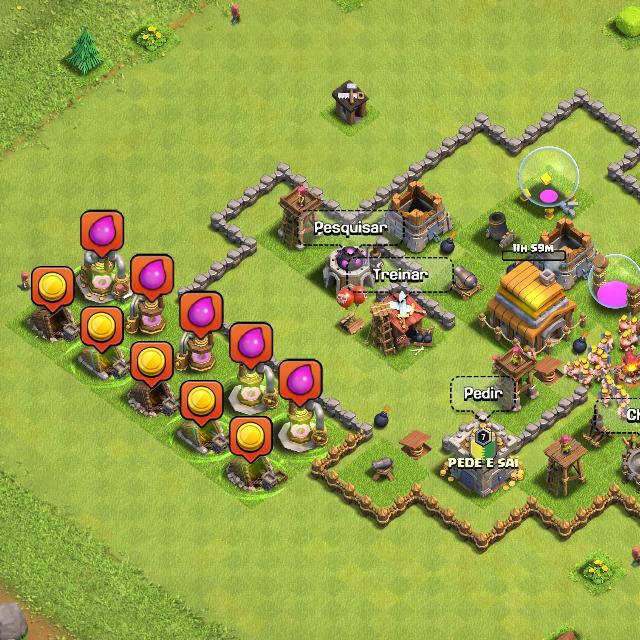Arqueira: (492, 344, 542, 414), (543, 434, 590, 499), (278, 186, 324, 248)
Canhao: (449, 264, 485, 302), (368, 455, 398, 485)
FullCoin: (31, 266, 76, 313), (130, 342, 174, 389), (179, 380, 223, 427), (80, 306, 124, 351), (229, 416, 273, 461)
FullElixir: (278, 359, 323, 408), (230, 322, 274, 369), (80, 210, 124, 256), (129, 254, 175, 298), (180, 292, 223, 339)
